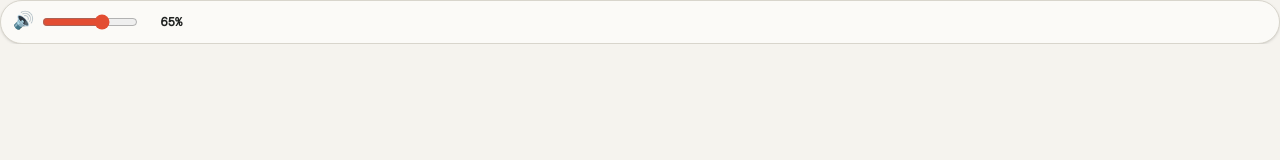
it: กดลำโพงอีกทีคืนระดับเสียงเดิม
Click the button named "ปิดเสียง" at (24,22), box [13,9,34,34]
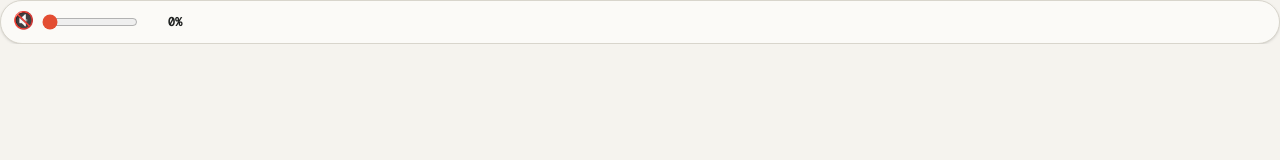
Click the button named "เปิดเสียง" at (24,22), box [13,9,34,34]
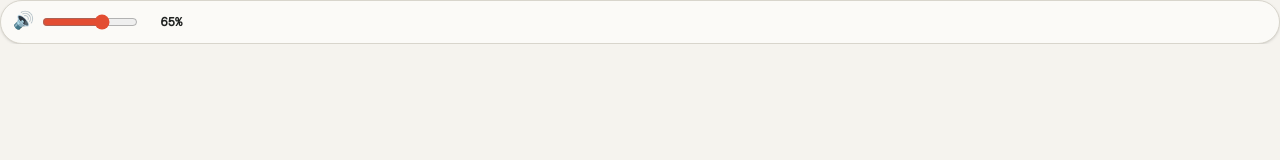
Expected: the text "65%" is shown, [161,14,182,30]
Expected: the text "🔊" is shown, [13,8,34,34]
